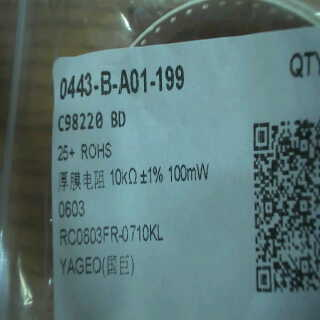10kR: (106, 165, 141, 190)
